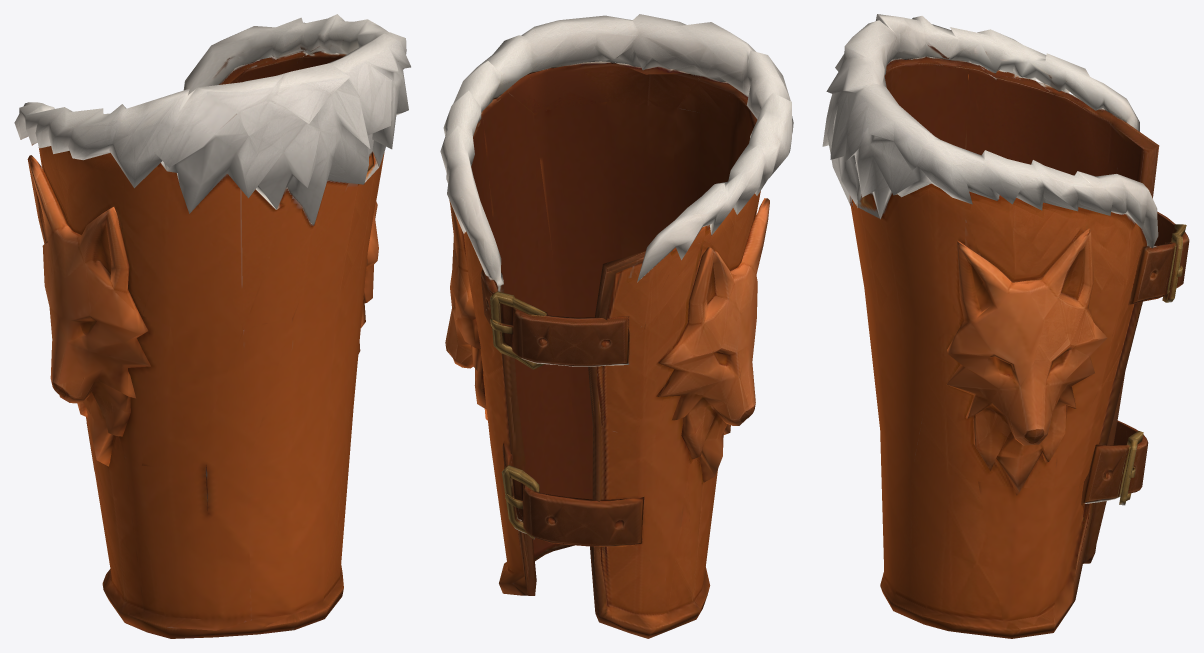
The model's file is foxfire-pack-bracer-i1_i23d.glb.
3 views of the same model, side by side, from view 1: azimuth 30°, elevation 25°; view 2: azimuth 150°, elevation 25°; view 3: azimuth 270°, elevation 25° (orthographic). The views are drawn at different scales.
Bounding box in the file's own units: 0.5747 × 0.9531 × 0.5874.
1 material, 1 textured.
